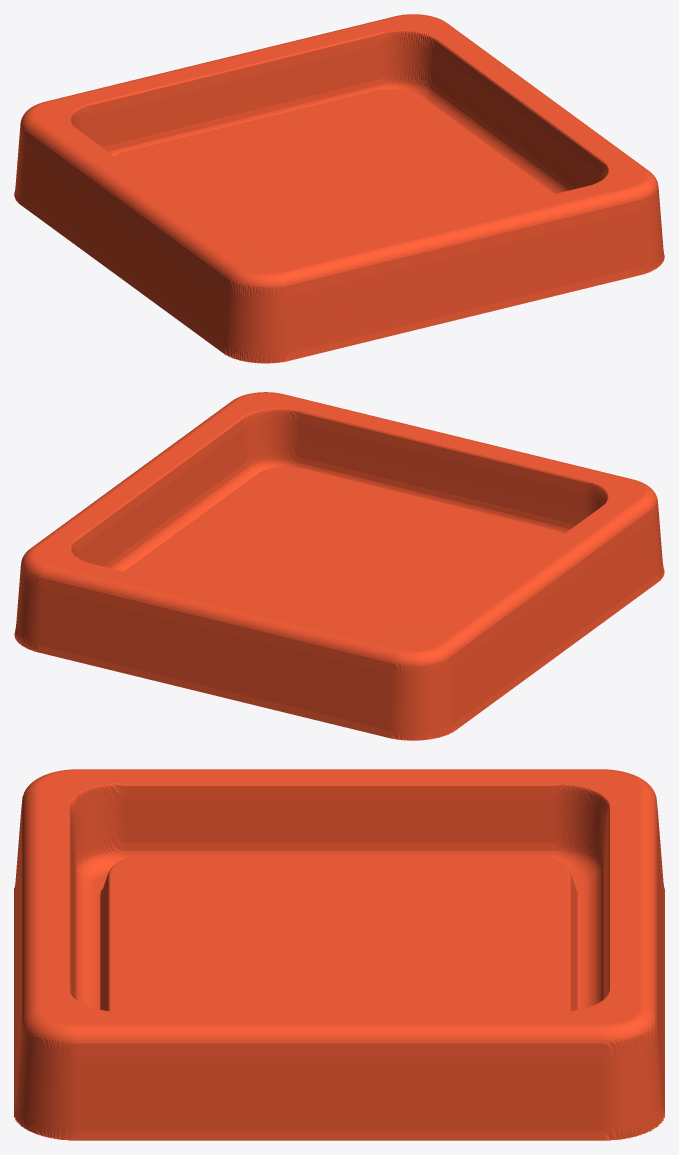
The model's file is mold.glb.
3 renders of one model, top to bottom at view 1: azimuth 30°, elevation 25°; view 2: azimuth 150°, elevation 25°; view 3: azimuth 270°, elevation 25°, orthographic. The views are drawn at different scales.
Parts seen in each view (by area): view 1: geometry_0; view 2: geometry_0; view 3: geometry_0.
Boxes of the visible parts, <box> form: geometry_0: <box>14,14,664,363</box>; geometry_0: <box>14,392,664,740</box>; geometry_0: <box>14,769,664,1140</box>.
Size of the model in its own units: 0.0924 by 0.0165 by 0.0924.
